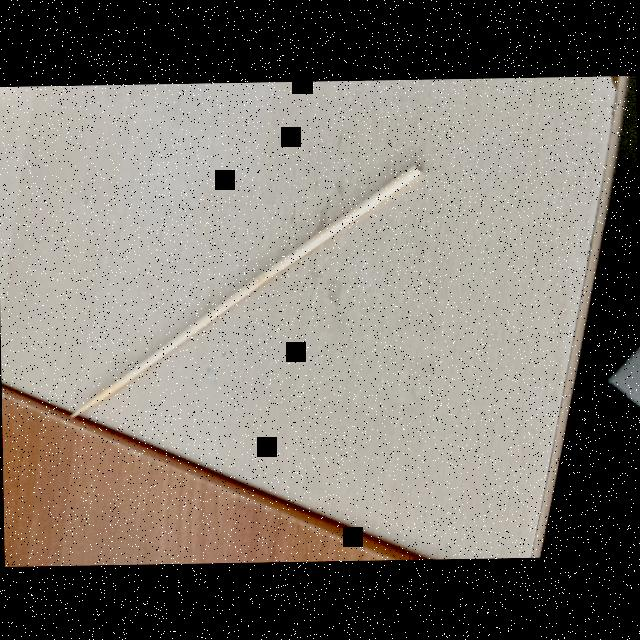stick: (44, 139, 442, 450)
